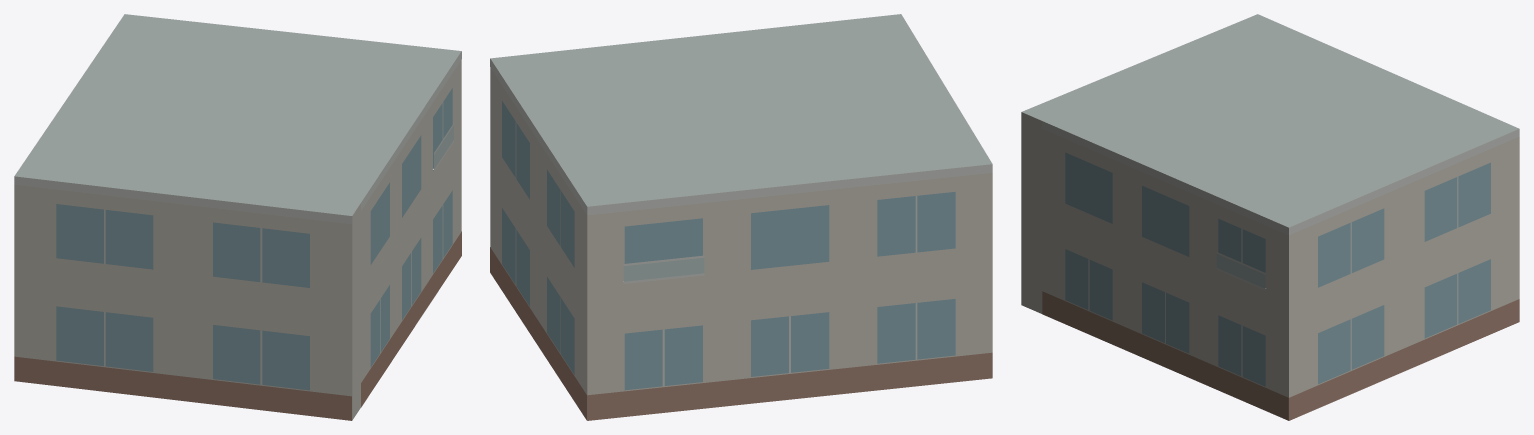
Rendered from survey-upis-32854572.glb.
3 renders of one model, left to right at view 1: azimuth 30°, elevation 25°; view 2: azimuth 150°, elevation 25°; view 3: azimuth 270°, elevation 25°, orthographic. The views are drawn at different scales.
Parts seen in each view (by area): view 1: survey-upis-32854572.tmp; view 2: survey-upis-32854572.tmp; view 3: survey-upis-32854572.tmp.
Boxes of the visible parts, <box> form: survey-upis-32854572.tmp: <box>14,14,461,420</box>; survey-upis-32854572.tmp: <box>490,14,992,420</box>; survey-upis-32854572.tmp: <box>1021,14,1519,420</box>.
Bounding box in the file's own units: 14.47 × 6.1 × 14.26.
